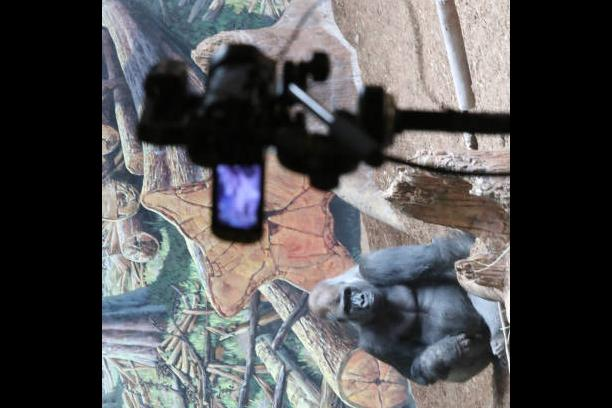gorille_Autres: (309, 226, 487, 393)
